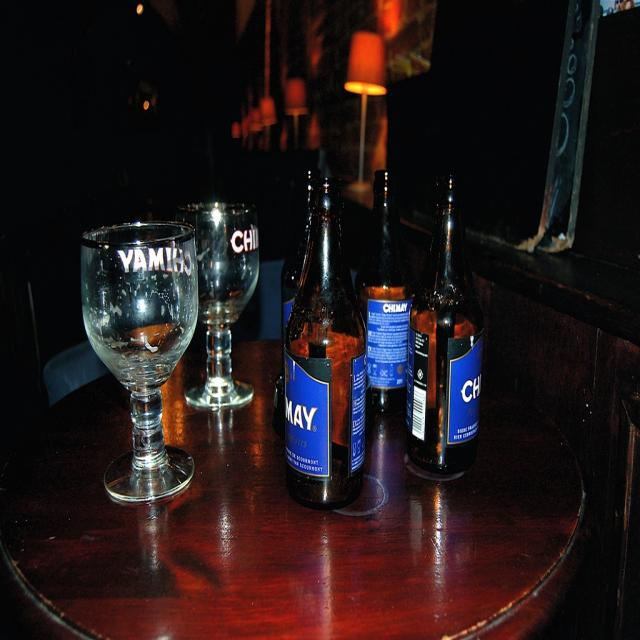chimay: (285, 352, 331, 481), (444, 335, 485, 449), (115, 247, 195, 278), (229, 227, 260, 254)
